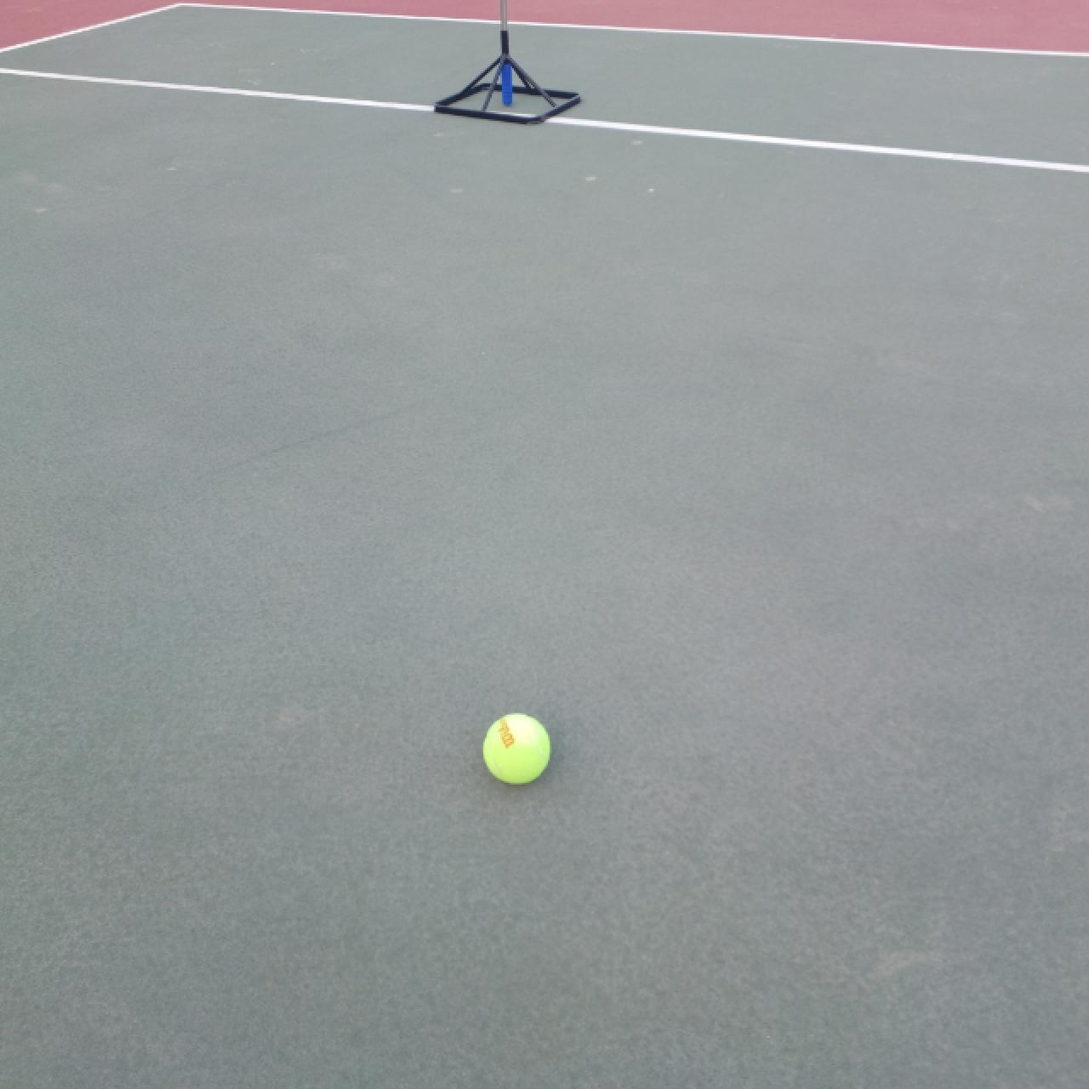tennis-ball: (482, 713, 553, 786)
